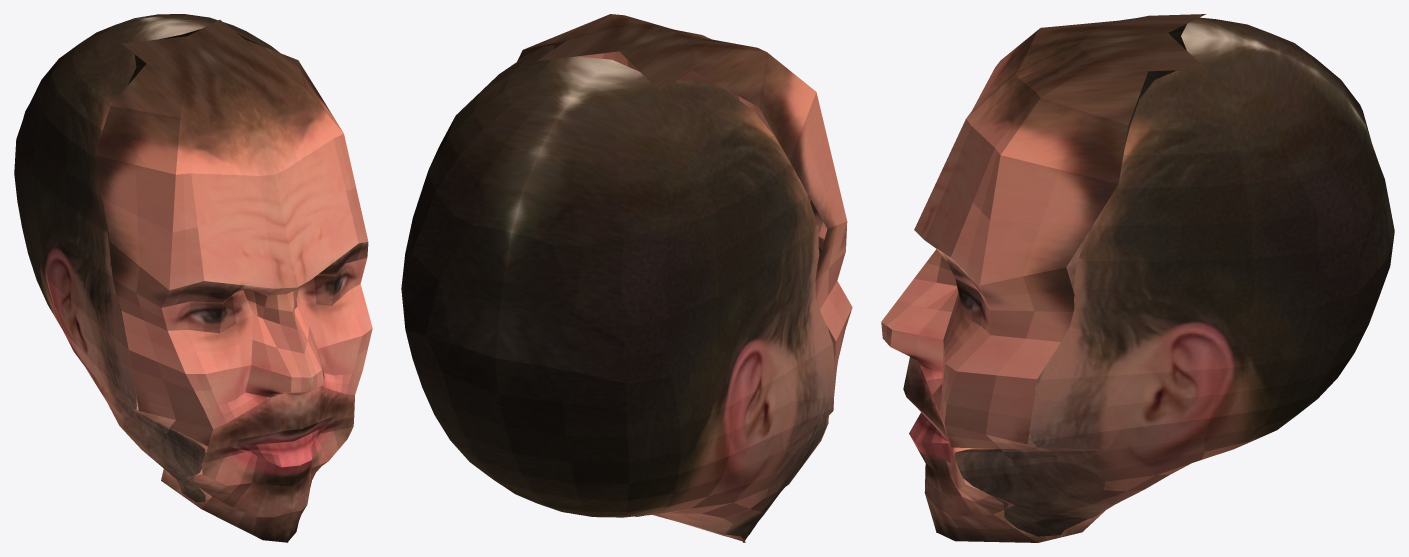
File: andreas.glb
3 views of the same model, side by side, from view 1: azimuth 30°, elevation 25°; view 2: azimuth 150°, elevation 25°; view 3: azimuth 270°, elevation 25° (orthographic). The views are drawn at different scales.
Parts seen in each view (by area): view 1: FACE, head; view 2: head, FACE; view 3: head, FACE.
Boxes of the visible parts, box(x1,y1,x2,y2) form: FACE: box(94, 19, 372, 542); head: box(14, 14, 279, 502); head: box(401, 45, 834, 539); FACE: box(517, 14, 852, 542); head: box(954, 17, 1394, 536); FACE: box(881, 14, 1206, 542).
Bounding box in the file's own units: 0.9772 × 1.67 × 1.55.
Materials: 2 (2 with a texture image).
